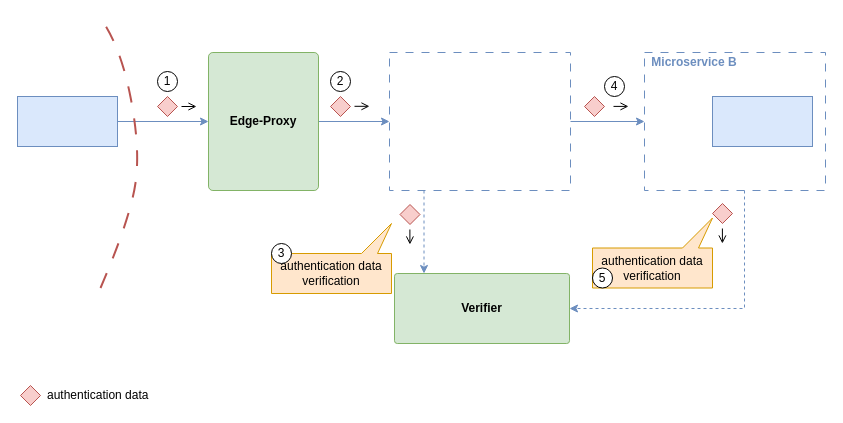
Some shapes in this 843 by 423 pixel diagram are drawn without their labels. The shapes that lost their labels are listed below. From the top down, each one's centre as x and y in pixels, then its label:
At point 67,121: "Some Client «Subject»".
At point 479,121: "Microservice A".
At point 762,121: "Some Entity «Object»".
